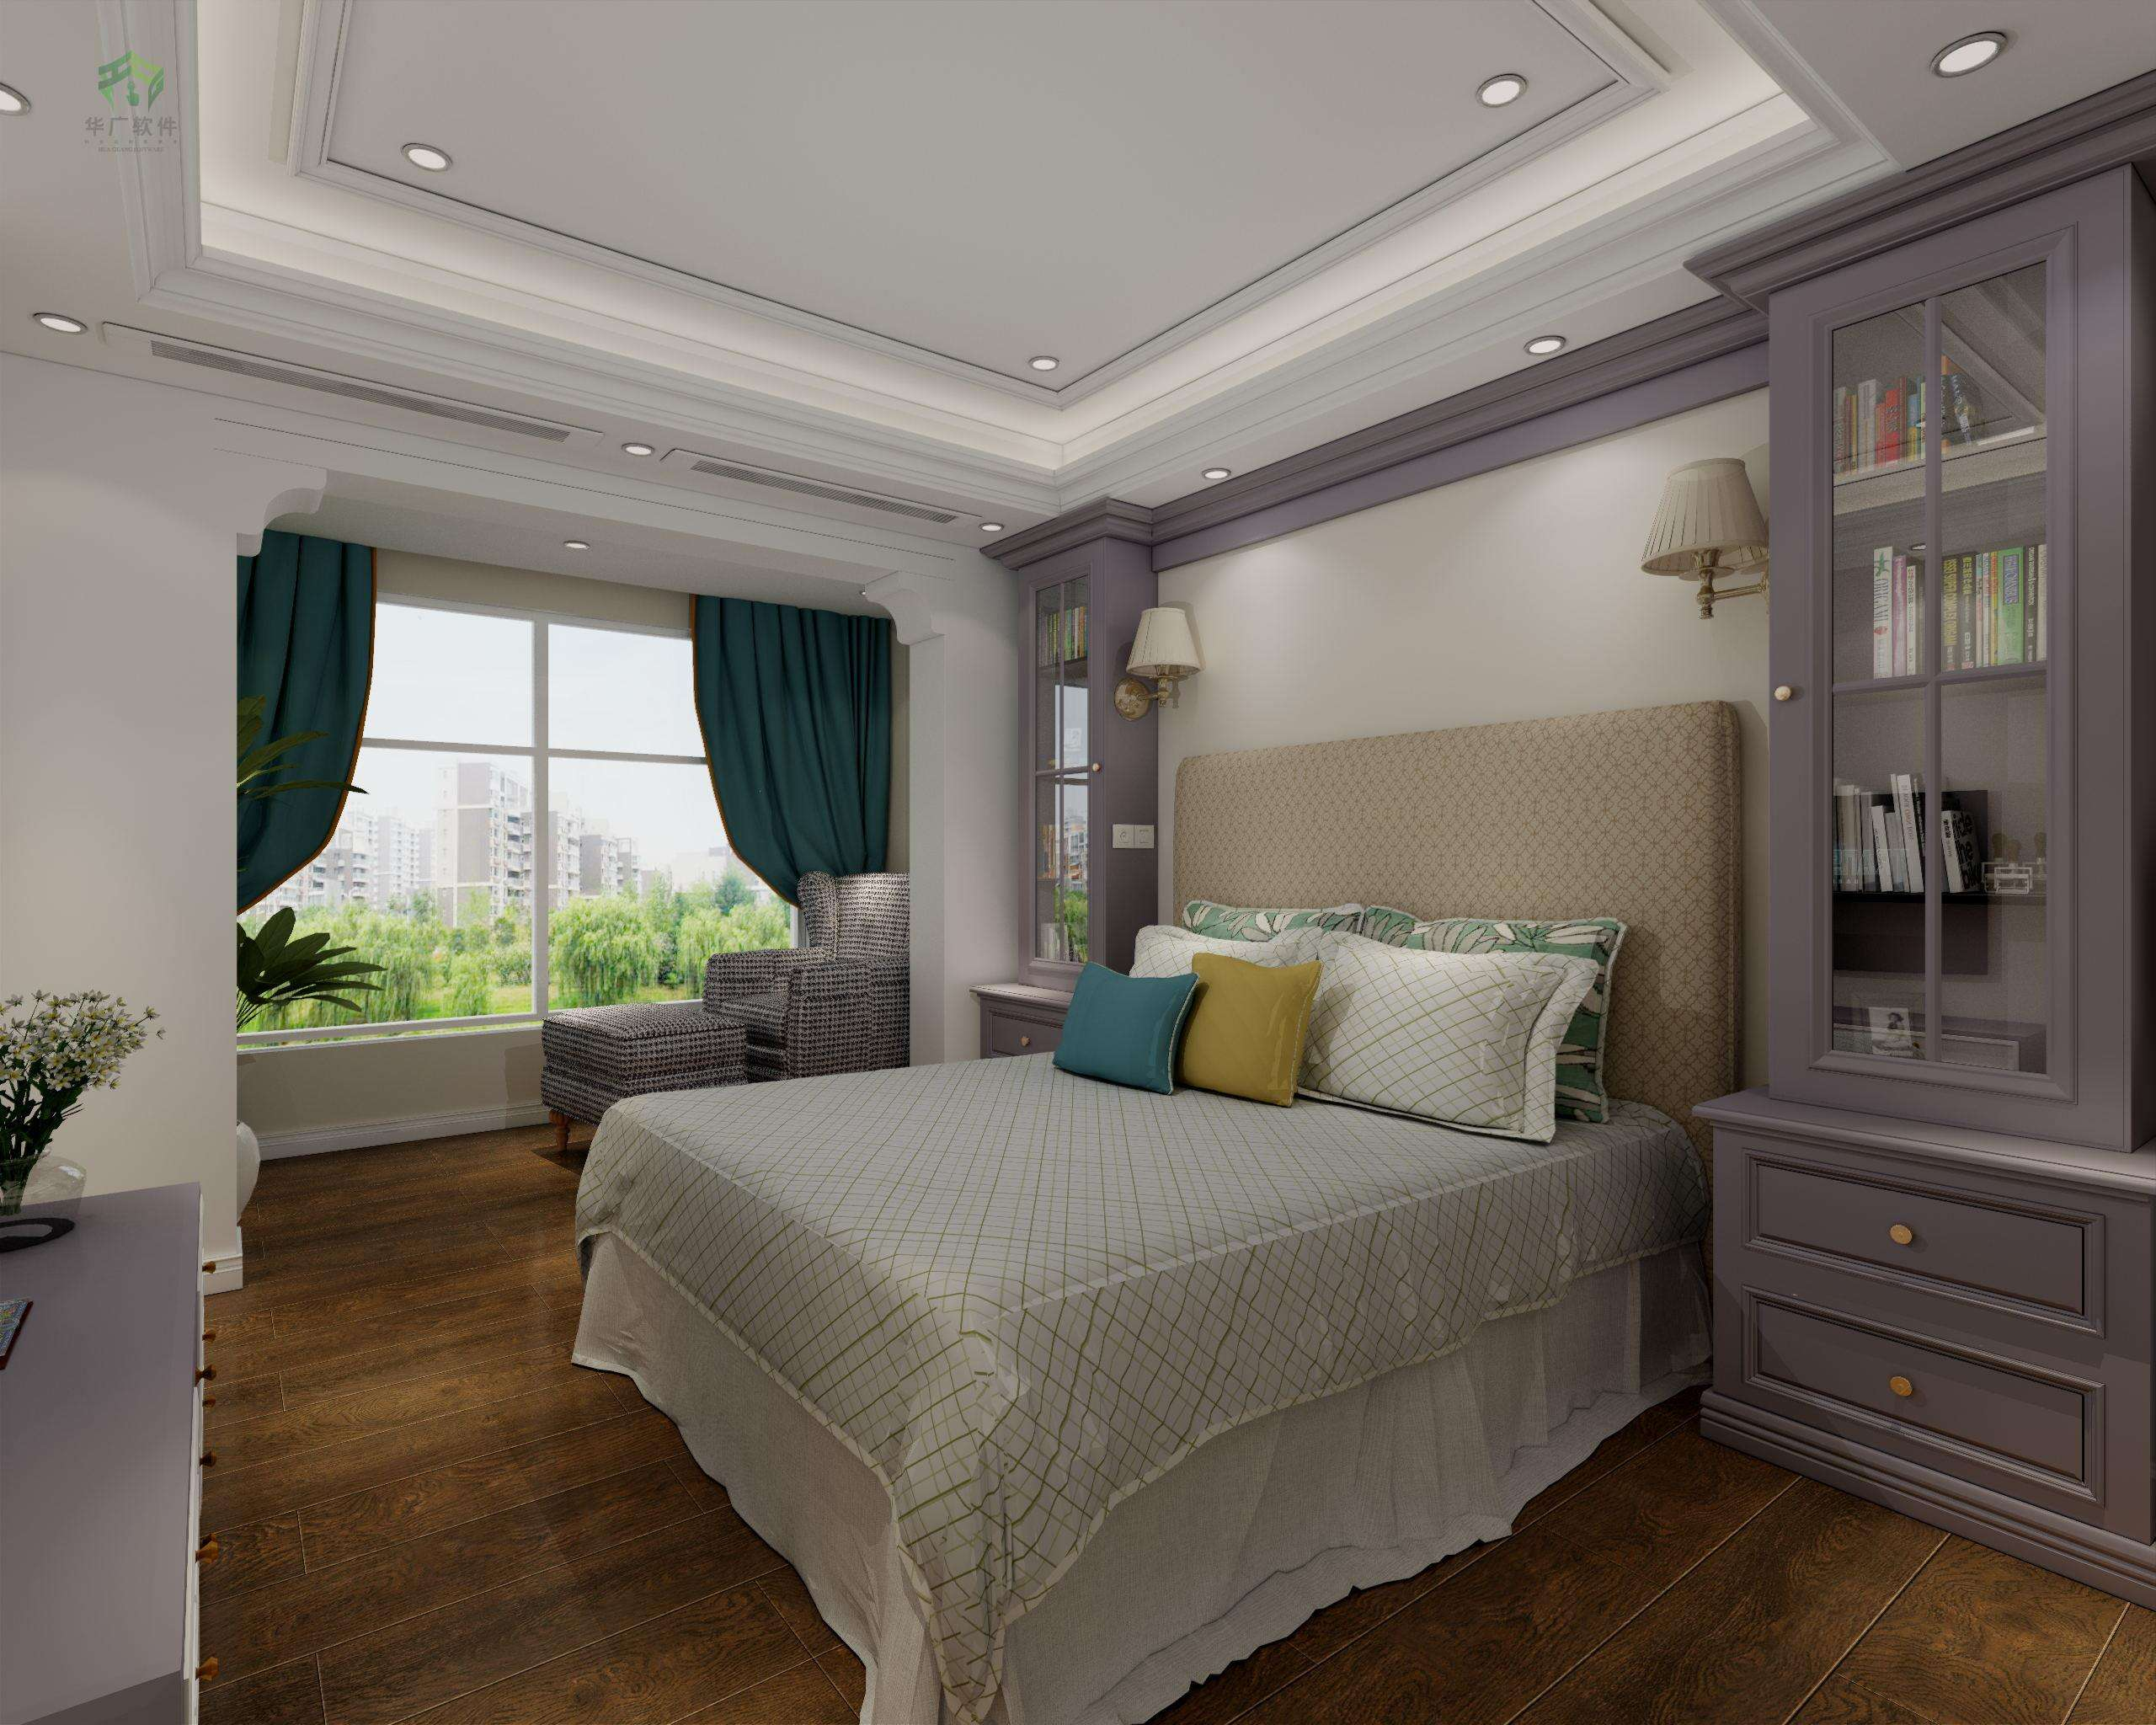床: (595, 1030, 1684, 1646)
枕头: (1058, 903, 1610, 1139)
灯: (1667, 449, 1799, 628), (1121, 602, 1211, 709), (1929, 23, 2026, 90), (21, 299, 100, 350), (1485, 67, 1551, 120), (389, 136, 466, 180), (1010, 340, 1067, 393), (1524, 329, 1588, 366), (609, 433, 672, 468), (553, 526, 604, 569), (1193, 463, 1246, 495), (970, 510, 1010, 547)
